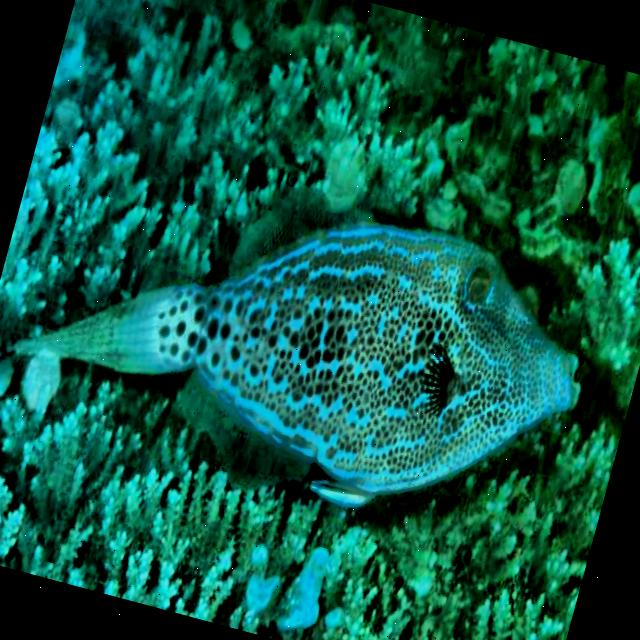fish: (0, 115, 620, 574)
